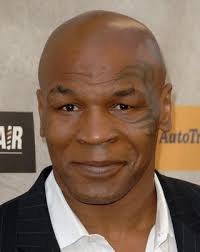face: (29, 7, 179, 211)
